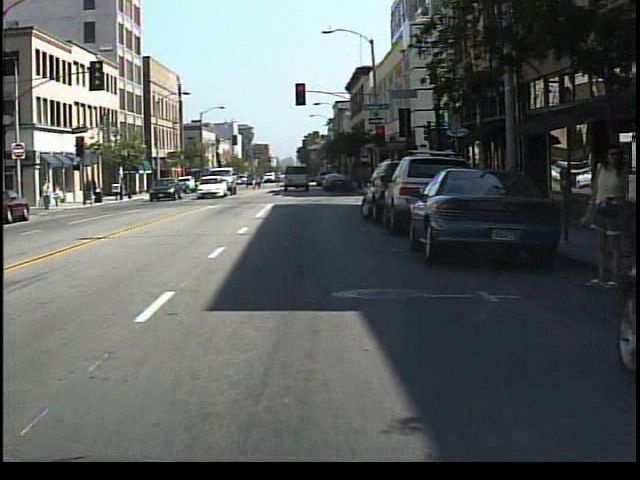person: (578, 140, 630, 299), (42, 179, 56, 213), (53, 181, 68, 209)
